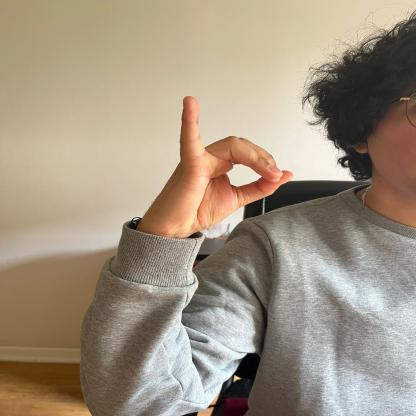D: (154, 94, 295, 230)
